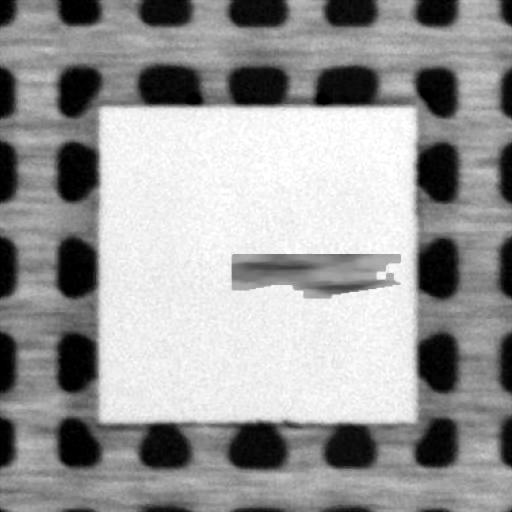DIE_INK: (230, 253, 398, 298)
